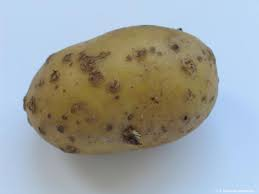potato: (19, 18, 227, 160)
